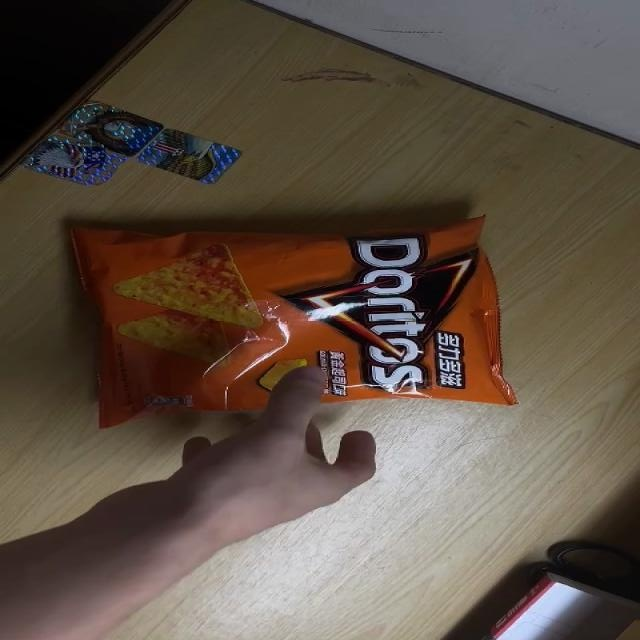Doritos: (62, 212, 520, 430)
